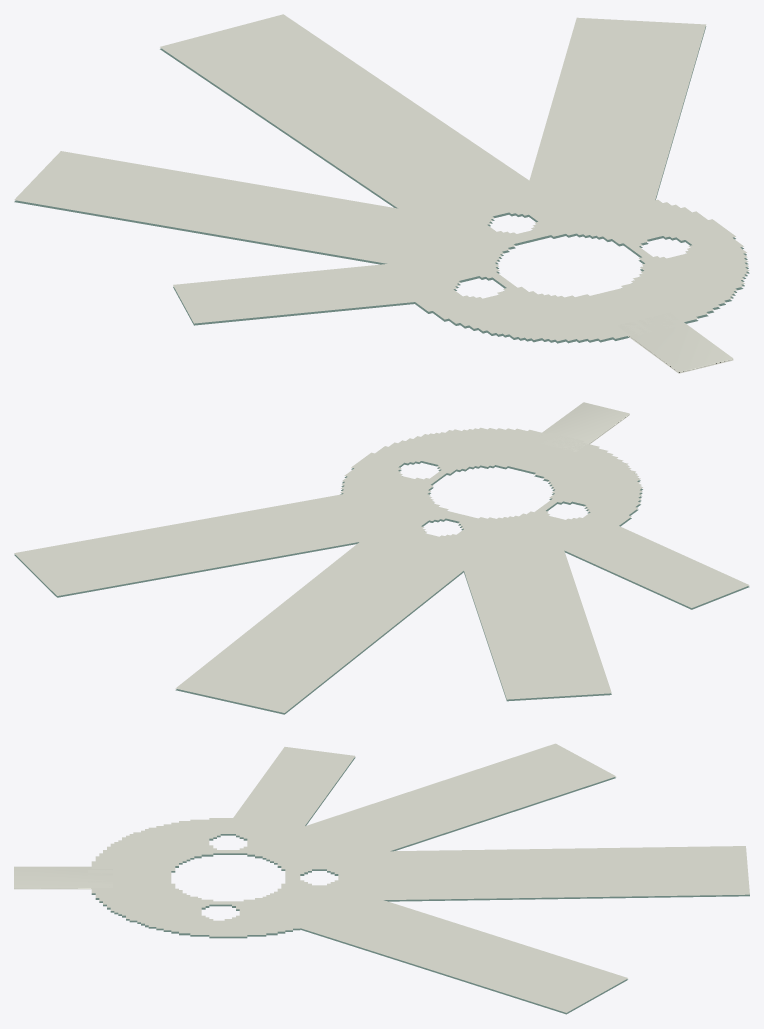
File: greenhouse-floor-shell.glb
3 views of the same model, one above another, from view 1: azimuth 30°, elevation 25°; view 2: azimuth 150°, elevation 25°; view 3: azimuth 270°, elevation 25° (orthographic). The views are drawn at different scales.
Parts seen in each view (by area): view 1: shell-material-1-2, shell-material-1-0, shell-material-1-1, shell-material-0-2, shell-material-0-0, shell-material-0-1; view 2: shell-material-1-2, shell-material-1-1, shell-material-1-0, shell-material-0-2; view 3: shell-material-1-2, shell-material-1-0, shell-material-1-1, shell-material-0-2.
Boxes of the visible parts, left/top/right/bottom form: shell-material-1-2: left=14, top=14, right=749, bottom=373; shell-material-1-0: left=391, top=204, right=635, bottom=341; shell-material-1-1: left=465, top=189, right=744, bottom=335; shell-material-0-2: left=14, top=26, right=749, bottom=325; shell-material-0-0: left=413, top=224, right=629, bottom=343; shell-material-0-1: left=489, top=212, right=744, bottom=323; shell-material-1-2: left=14, top=402, right=749, bottom=712; shell-material-1-1: left=342, top=427, right=583, bottom=550; shell-material-1-0: left=430, top=442, right=642, bottom=555; shell-material-0-2: left=14, top=468, right=749, bottom=714; shell-material-1-2: left=14, top=743, right=749, bottom=1012; shell-material-1-0: left=91, top=818, right=368, bottom=870; shell-material-1-1: left=88, top=869, right=368, bottom=922; shell-material-0-2: left=137, top=757, right=749, bottom=1014.
Bounding box in the file's own units: 77.28 × 0.32 × 89.21.
